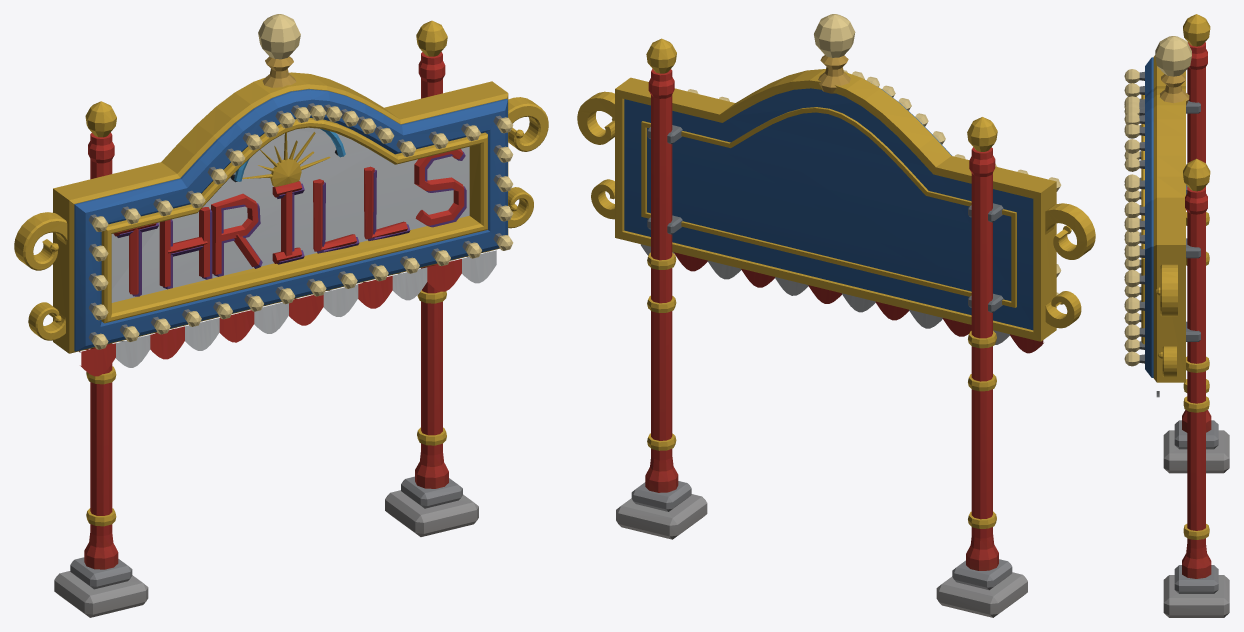
File: ride-name-sign.glb
3 renders of one model, left to right at view 1: azimuth 30°, elevation 25°; view 2: azimuth 150°, elevation 25°; view 3: azimuth 270°, elevation 25°, orthographic. The views are drawn at different scales.
Visible parts, largest first — view 1: ride_name_sign; view 2: ride_name_sign; view 3: ride_name_sign.
Boxes of the visible parts, x1,y1,x2,y2 form: ride_name_sign: [14, 14, 548, 617]; ride_name_sign: [577, 14, 1095, 617]; ride_name_sign: [1124, 14, 1229, 617].
Size of the model in its own units: 2.48 by 2.5 by 0.4787.
